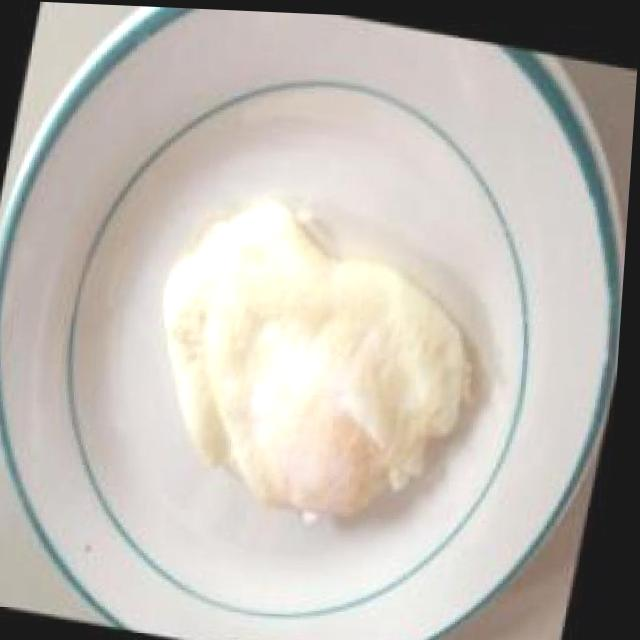fried_eggs: (133, 176, 506, 541)
